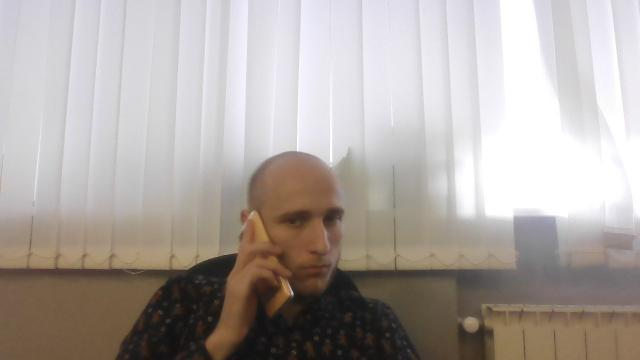PhoneUse: (235, 208, 297, 322)
SafeDriving: (282, 211, 312, 231)
